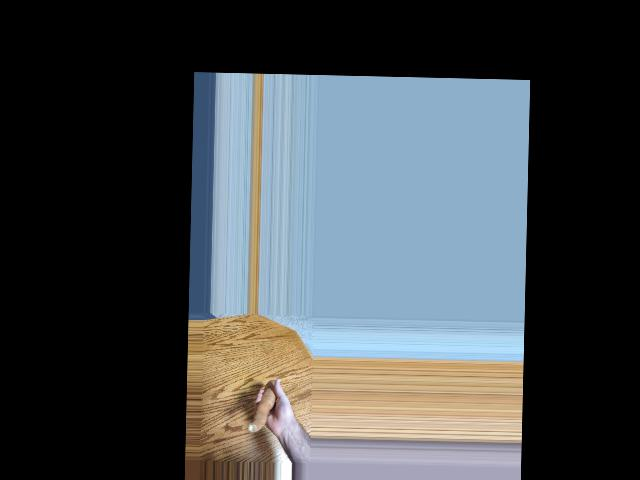sweet_potato: (249, 380, 278, 435)
